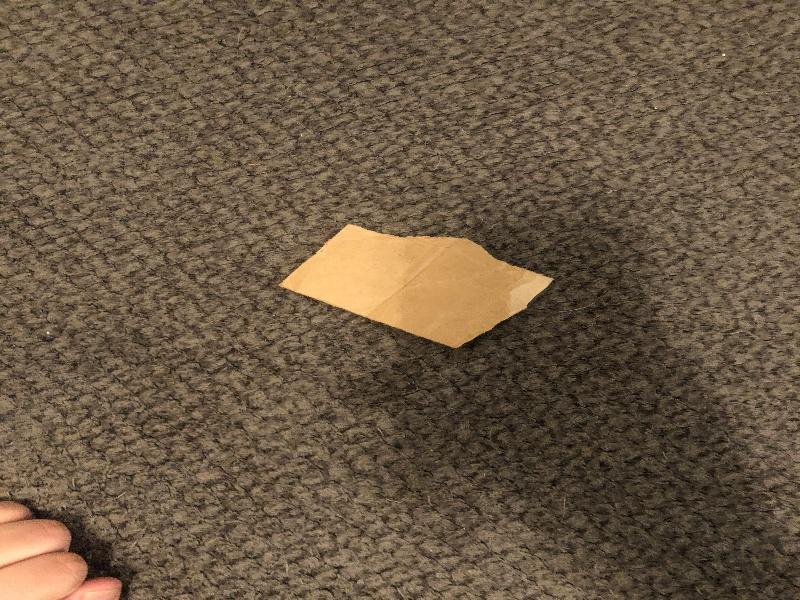cardboard: (273, 222, 561, 352)
